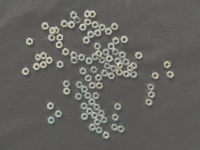nut: (41, 22, 50, 30), (22, 68, 30, 76), (26, 38, 34, 46), (40, 52, 48, 60), (49, 27, 57, 35), (56, 34, 64, 42), (62, 49, 70, 57), (78, 54, 86, 62), (75, 93, 83, 101), (81, 86, 89, 94), (81, 113, 89, 121), (86, 108, 94, 116), (93, 104, 101, 112), (98, 110, 106, 118), (89, 124, 97, 132), (83, 37, 91, 45), (106, 55, 114, 63), (105, 28, 113, 36), (111, 23, 119, 31), (121, 36, 129, 44), (119, 51, 127, 59), (123, 71, 131, 79), (167, 71, 175, 79), (74, 16, 81, 25), (70, 11, 77, 20), (92, 53, 99, 62), (48, 117, 55, 125), (47, 103, 54, 111), (55, 111, 63, 118), (35, 54, 42, 62), (46, 57, 53, 65), (63, 88, 71, 95), (63, 81, 71, 88), (57, 61, 64, 69), (48, 35, 56, 42), (61, 20, 68, 28), (68, 21, 75, 29), (71, 57, 78, 65), (70, 52, 78, 59), (76, 82, 84, 89), (84, 93, 92, 100), (81, 103, 88, 111), (80, 68, 87, 76), (79, 24, 87, 31), (89, 82, 96, 90), (96, 83, 104, 90), (91, 113, 99, 120), (94, 119, 101, 127), (101, 117, 108, 125), (96, 127, 103, 135), (111, 125, 119, 132), (118, 126, 125, 134), (112, 115, 120, 122), (115, 103, 122, 111), (85, 75, 92, 83), (95, 75, 103, 82), (84, 19, 92, 26), (85, 10, 92, 18), (88, 31, 95, 39), (92, 21, 99, 29), (95, 29, 102, 37), (99, 24, 106, 32), (96, 50, 103, 58), (94, 43, 102, 50), (99, 57, 106, 65), (104, 63, 112, 70), (108, 73, 116, 80), (110, 66, 118, 73), (108, 43, 115, 51), (113, 37, 120, 45), (112, 49, 120, 56), (115, 57, 122, 65), (116, 69, 124, 76), (117, 62, 124, 70), (131, 62, 138, 70), (130, 72, 138, 79), (136, 52, 143, 60), (146, 99, 153, 107), (148, 92, 156, 99), (148, 84, 155, 92), (152, 73, 160, 80), (164, 61, 171, 69), (33, 64, 40, 71), (40, 62, 47, 69), (53, 27, 60, 34), (56, 42, 63, 49), (93, 93, 100, 100), (89, 99, 96, 106), (103, 133, 110, 140), (86, 58, 93, 65), (91, 67, 98, 74), (90, 11, 97, 18), (102, 70, 109, 77), (103, 49, 110, 56), (123, 59, 130, 66), (127, 65, 134, 72)
